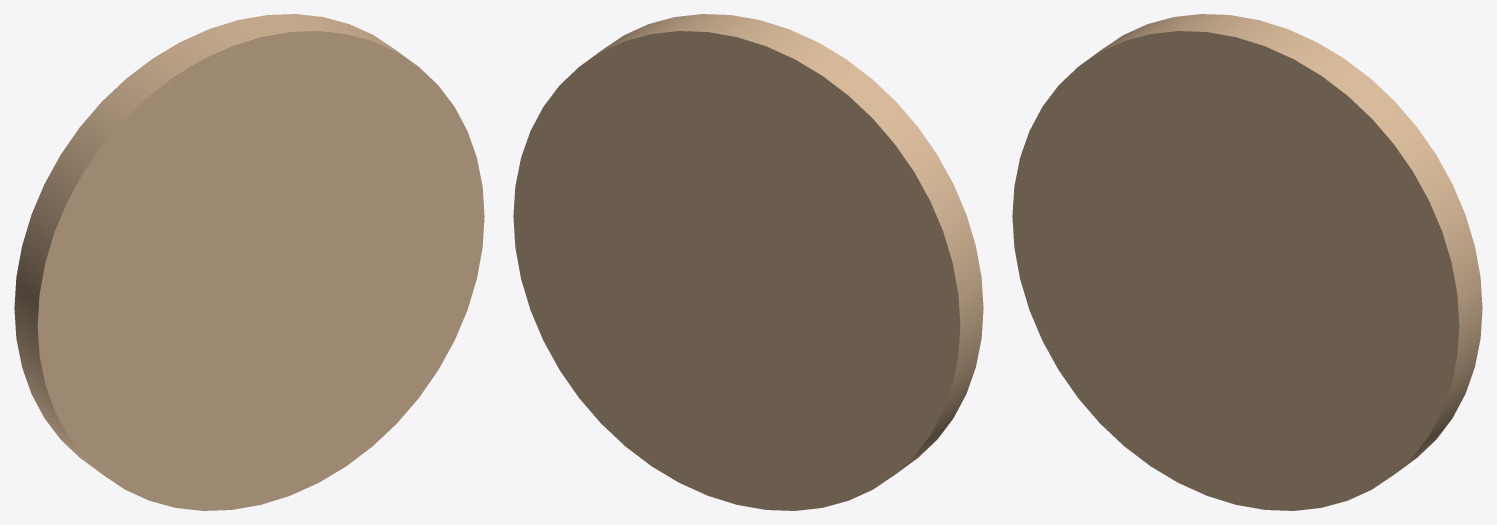
Rendered from badge_mater.glb.
The picture shows the model from 3 angles, left to right: view 1: azimuth 30°, elevation 25°; view 2: azimuth 150°, elevation 25°; view 3: azimuth 330°, elevation 25°; orthographic projection.
Parts seen in each view (by area): view 1: badge; view 2: badge; view 3: badge.
Part boxes in pixels (box(x1,y1,x2,y2)): badge: box(14, 14, 484, 510); badge: box(513, 14, 983, 510); badge: box(1012, 14, 1482, 510).
Bounding box in the file's own units: 2 × 2 × 0.18.
